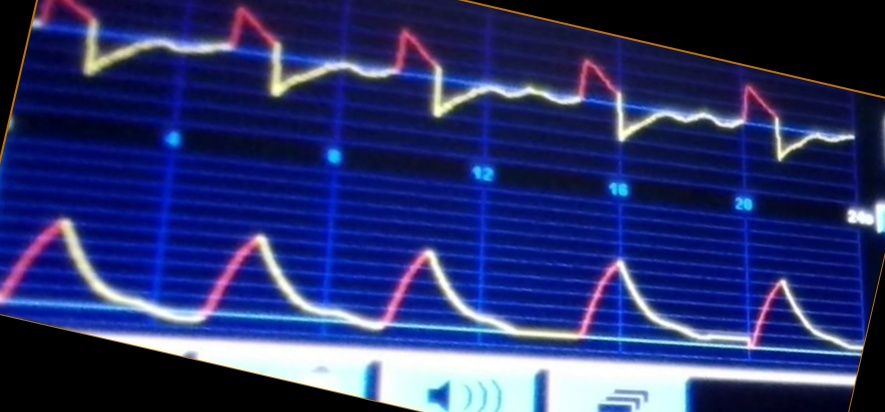Ineffective_effort Flow: (34, 1, 854, 157)
Ineffective_effort Volume: (1, 207, 855, 349)
